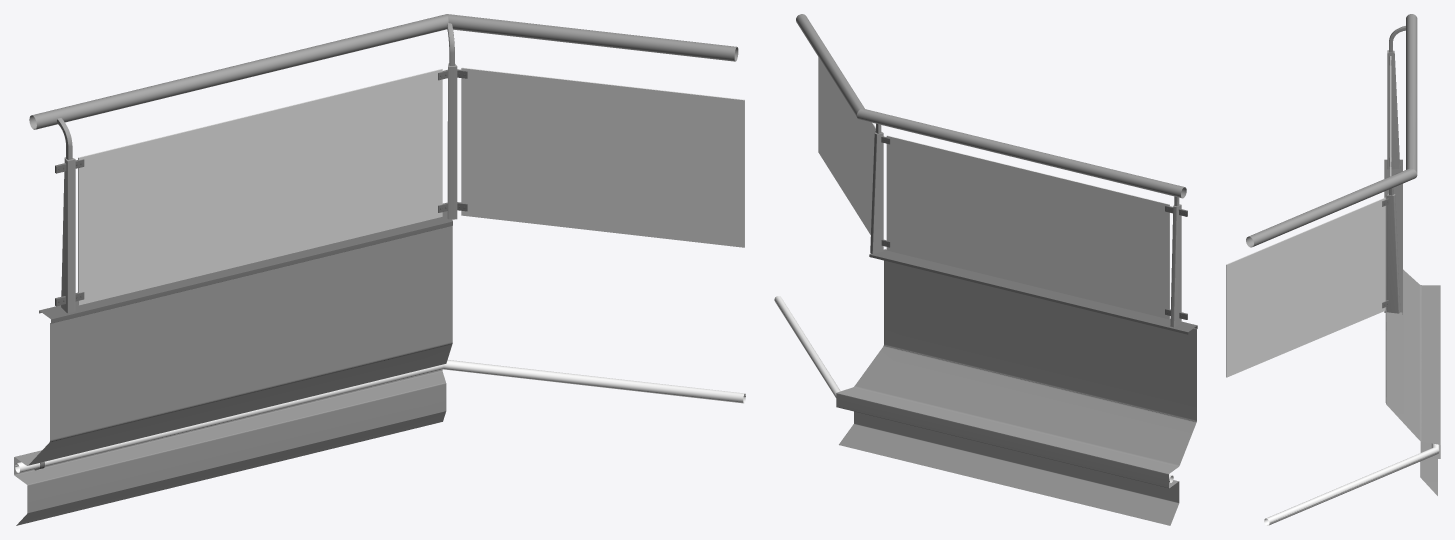
The model's file is SM_Balcony45_RightTop.fbx.
3 renders of one model, left to right at view 1: azimuth 30°, elevation 25°; view 2: azimuth 150°, elevation 25°; view 3: azimuth 270°, elevation 25°, orthographic. The views are drawn at different scales.
Parts seen in each view (by area): view 1: Glass_RightTopCorner, Balcony_RightTopCorner, Railing_RightTopCorner, EnergyTube_RightTopCorner, RailingSupport_RightTopCorner; view 2: Balcony_RightTopCorner, Glass_RightTopCorner, Railing_RightTopCorner, RailingSupport_RightTopCorner, EnergyTube_RightTopCorner; view 3: Glass_RightTopCorner, Balcony_RightTopCorner, Railing_RightTopCorner, RailingSupport_RightTopCorner, EnergyTube_RightTopCorner.
Boxes of the visible parts, bbox=[...] form: Glass_RightTopCorner: bbox=[78, 67, 744, 305]; Balcony_RightTopCorner: bbox=[14, 211, 452, 525]; Railing_RightTopCorner: bbox=[29, 14, 738, 129]; EnergyTube_RightTopCorner: bbox=[15, 360, 745, 472]; RailingSupport_RightTopCorner: bbox=[55, 23, 467, 313]; Balcony_RightTopCorner: bbox=[836, 249, 1197, 525]; Glass_RightTopCorner: bbox=[818, 57, 1169, 319]; Railing_RightTopCorner: bbox=[796, 14, 1186, 198]; RailingSupport_RightTopCorner: bbox=[870, 123, 1187, 327]; EnergyTube_RightTopCorner: bbox=[774, 296, 1173, 482]; Glass_RightTopCorner: bbox=[1226, 56, 1391, 377]; Balcony_RightTopCorner: bbox=[1384, 159, 1440, 495]; Railing_RightTopCorner: bbox=[1246, 14, 1417, 247]; RailingSupport_RightTopCorner: bbox=[1382, 26, 1405, 313]; EnergyTube_RightTopCorner: bbox=[1264, 443, 1439, 525].
Size of the model in its own units: 453 by 295 by 178.
